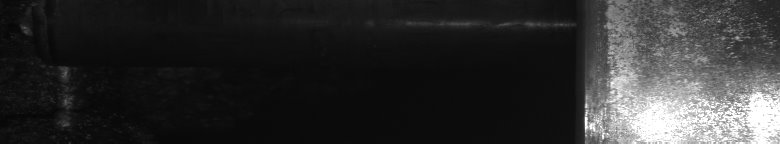kb: (596, 4, 776, 136)
